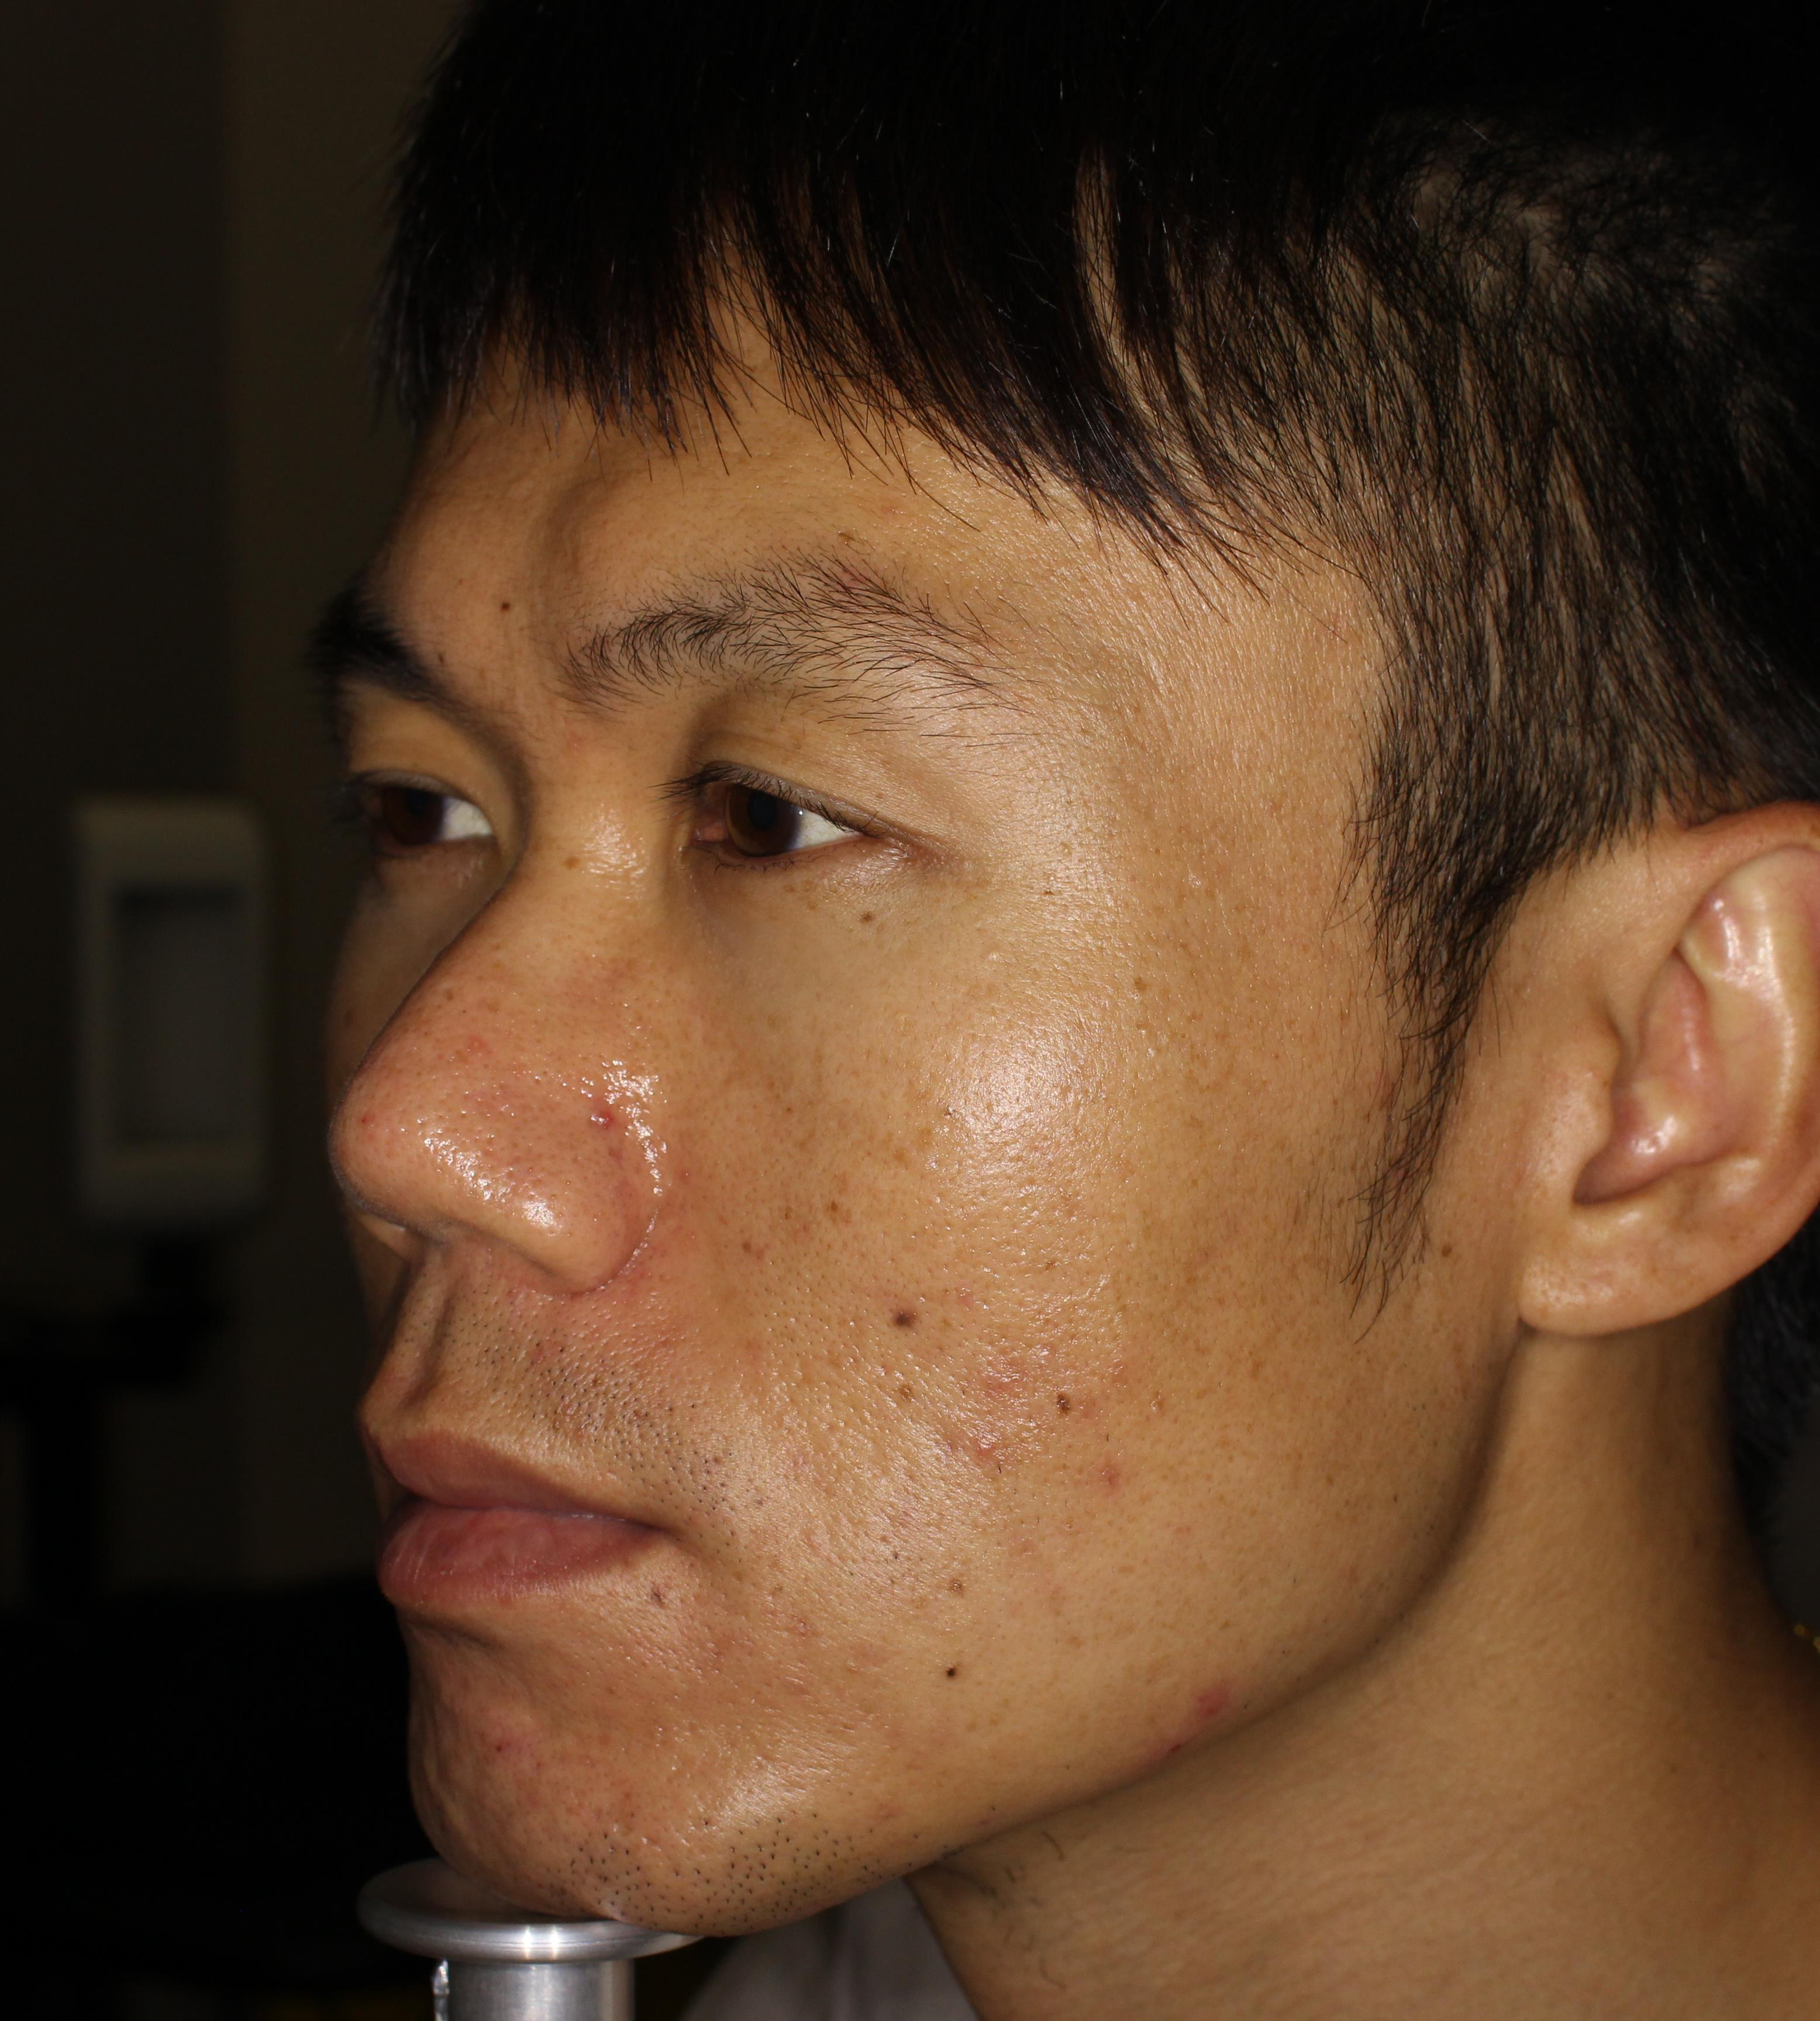fore: (1170, 1670, 1265, 1742), (929, 1396, 1001, 1473), (1077, 1450, 1152, 1505)
